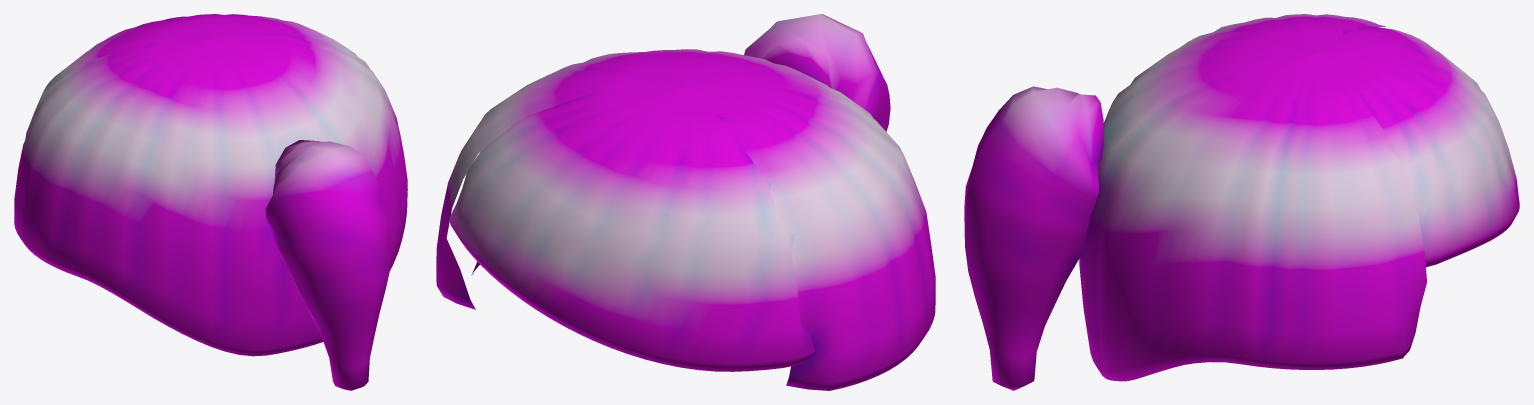
The model's file is ponytail_mid.glb.
3 renders of one model, left to right at view 1: azimuth 30°, elevation 25°; view 2: azimuth 150°, elevation 25°; view 3: azimuth 270°, elevation 25°, orthographic. The views are drawn at different scales.
Visible parts, largest first — view 1: ponytail; view 2: ponytail; view 3: ponytail.
Boxes of the visible parts, x1,y1,x2,y2 form: ponytail: [14, 14, 407, 390]; ponytail: [436, 14, 935, 390]; ponytail: [964, 14, 1519, 390].
Bounding box in the file's own units: 0.906 × 0.654 × 1.01.
